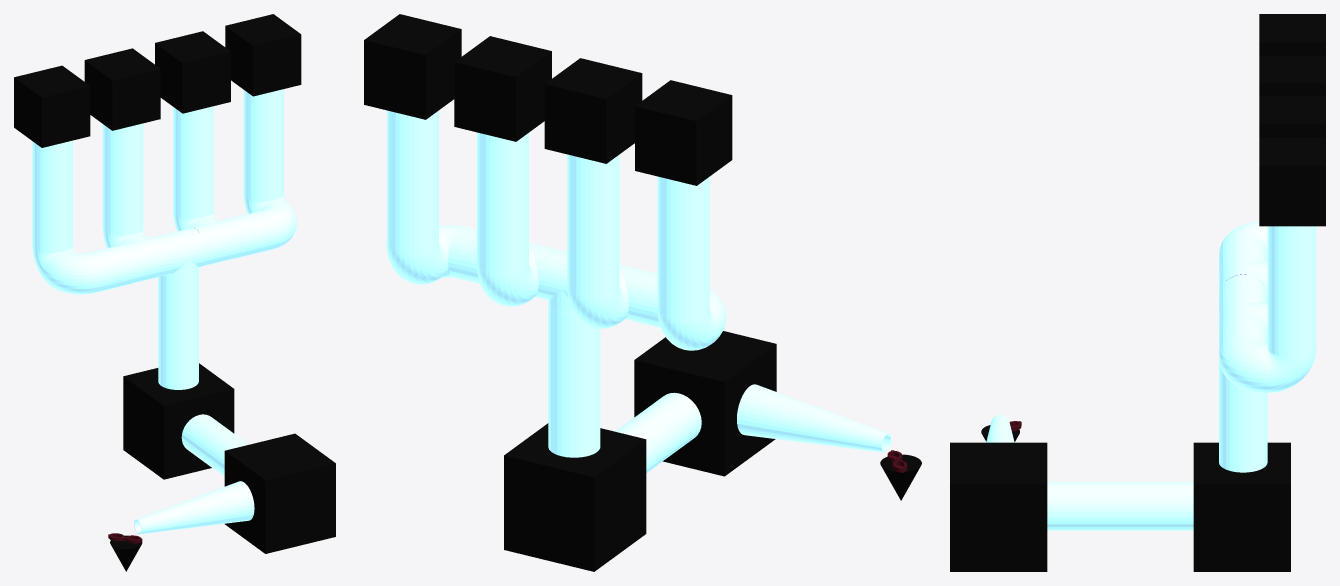
Rendered from pipeline.glb.
The picture shows the model from 3 angles, left to right: view 1: azimuth 30°, elevation 25°; view 2: azimuth 150°, elevation 25°; view 3: azimuth 270°, elevation 25°; orthographic projection. The views are drawn at different scales.
Visible parts, largest first — view 1: Cube.001, Cube, Cube.005, Cube.003, Cube.004, Cube.002, pipe.006, pipe.001, pipe, pipe.003, pipe.002, pipe.008 (+10 smaller); view 2: Cube, Cube.001, Cube.005, Cube.004, Cube.003, Cube.002, pipe.006, pipe, pipe.001, pipe.002, pipe.003, pipe.008 (+9 smaller); view 3: Cube.001, Cube, pipe.007, pipe.002, Cube.003, pipe.006, Cube.002, Cube.004, Cube.005, cornerpipe.005, cornerpipe.002, Tee Joint.002 (+6 smaller).
Part boxes in pixels (x1,y1,x2,y2): Cube.001: (224,433,335,553); Cube: (123,363,234,479); Cube.005: (14,65,90,147); Cube.003: (225,14,301,96); Cube.004: (84,48,160,130); Cube.002: (155,31,230,113); pipe.006: (158,263,198,389); pipe.001: (102,123,143,235); pipe: (32,140,72,252); pipe.003: (173,106,213,218); pipe.002: (243,89,283,201); pipe.008: (134,481,254,534); Cube: (504,423,646,571); Cube.001: (634,331,776,476); Cube.005: (635,80,732,185); Cube.004: (544,58,642,163); Cube.003: (364,14,461,119); Cube.002: (454,36,551,141); pipe.006: (548,303,600,457); pipe: (657,176,709,319); pipe.001: (567,154,619,297); pipe.002: (387,110,438,253); pipe.003: (477,132,528,275); pipe.008: (737,384,891,452); Cube.001: (950,442,1047,571); Cube: (1193,442,1290,571); pipe.007: (1047,482,1193,530); pipe.002: (1267,226,1316,356); Cube.003: (1259,137,1325,226); pipe.006: (1219,360,1267,472); Cube.002: (1259,96,1325,137); Cube.004: (1259,55,1325,96); Cube.005: (1259,14,1325,55); cornerpipe.005: (1219,336,1267,392); cornerpipe.002: (1267,347,1316,392); Tee Joint.002: (1219,254,1267,302).
Size of the model in its own units: 42.2 by 52.89 by 38.59.
